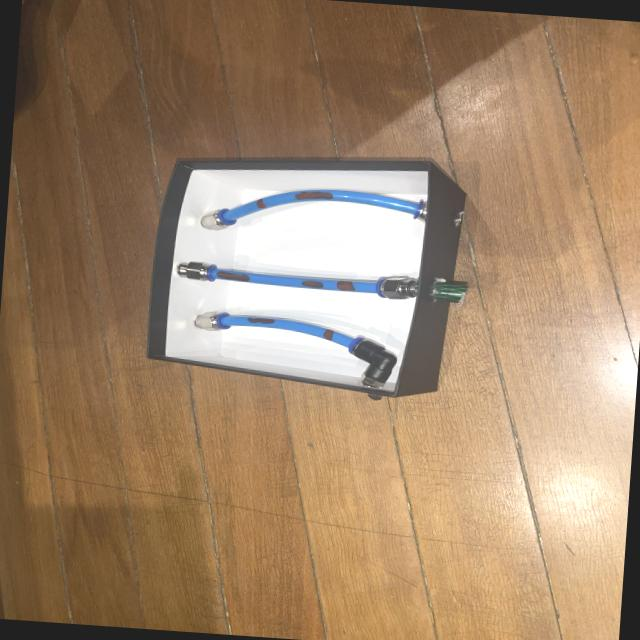hose_damage: (292, 188, 334, 203), (214, 272, 252, 282), (334, 278, 356, 292), (298, 279, 325, 290), (244, 316, 276, 324), (254, 197, 268, 210), (320, 328, 335, 340)
